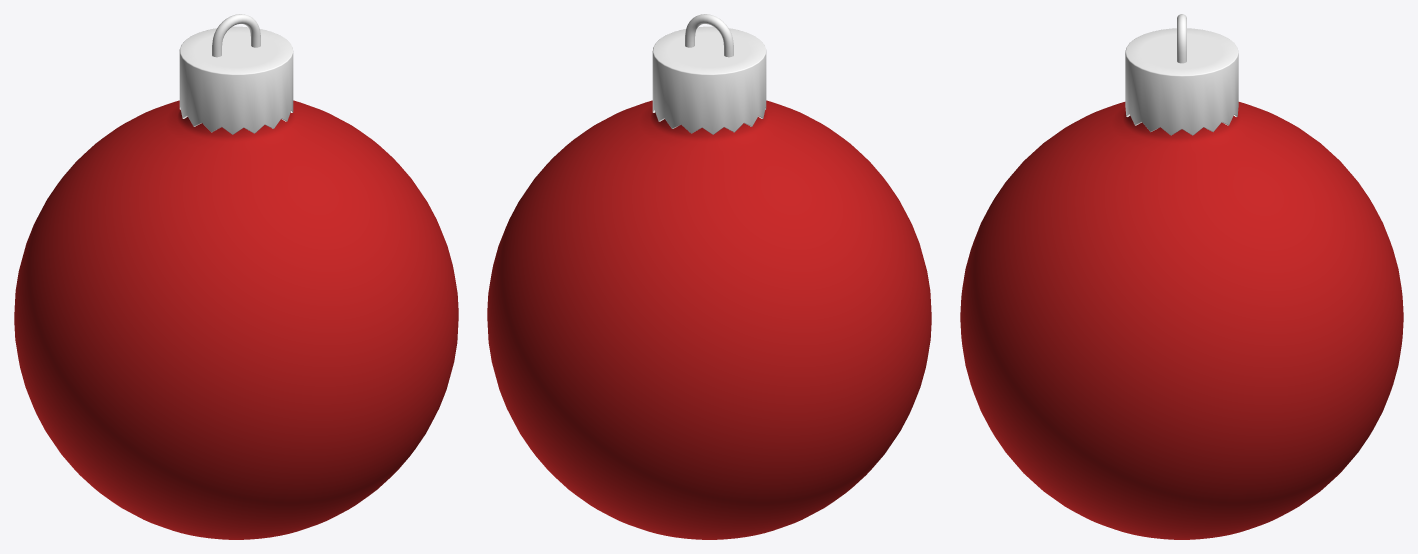
File: red_ball2.glb
3 views of the same model, side by side, from view 1: azimuth 30°, elevation 25°; view 2: azimuth 150°, elevation 25°; view 3: azimuth 270°, elevation 25° (orthographic).
Parts seen in each view (by area): view 1: Object_7.013; view 2: Object_7.013; view 3: Object_7.013.
Part boxes in pixels (x1,y1,x2,y2): Object_7.013: (14, 14, 458, 539); Object_7.013: (487, 14, 931, 539); Object_7.013: (960, 14, 1403, 539).
Bounding box in the file's own units: 0.0636 × 0.0797 × 0.0636.
